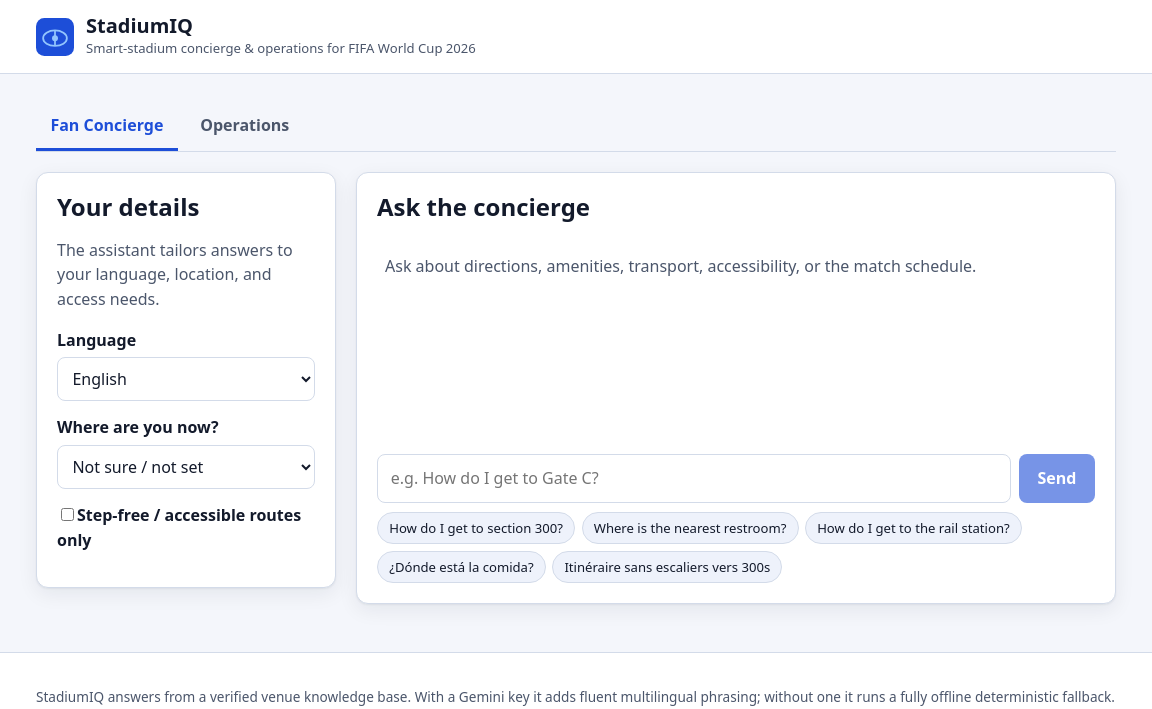
App › loads the operations dashboard when its tab is selected
Click the tab "Operations".
click(245, 126)  # box x1=186 y1=102 x2=304 y2=151
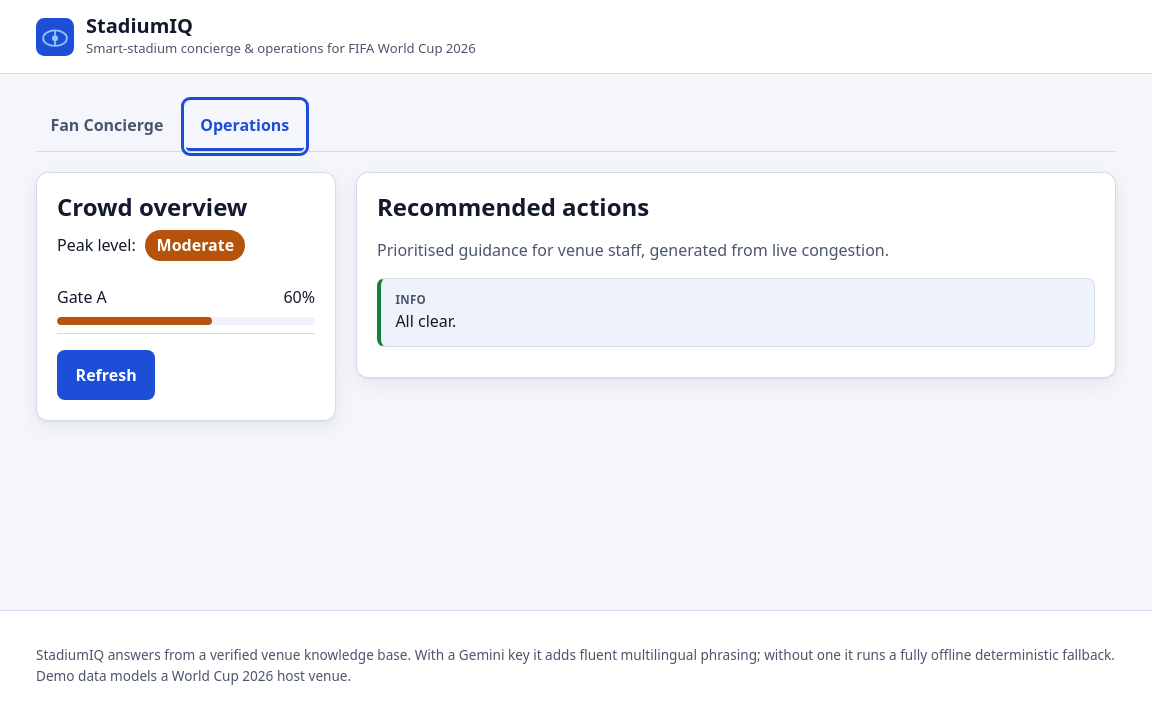
Now the heading "Crowd overview" is shown, box x1=57 y1=190 x2=247 y2=223
Now the text "All clear." is shown, box x1=395 y1=310 x2=456 y2=332
